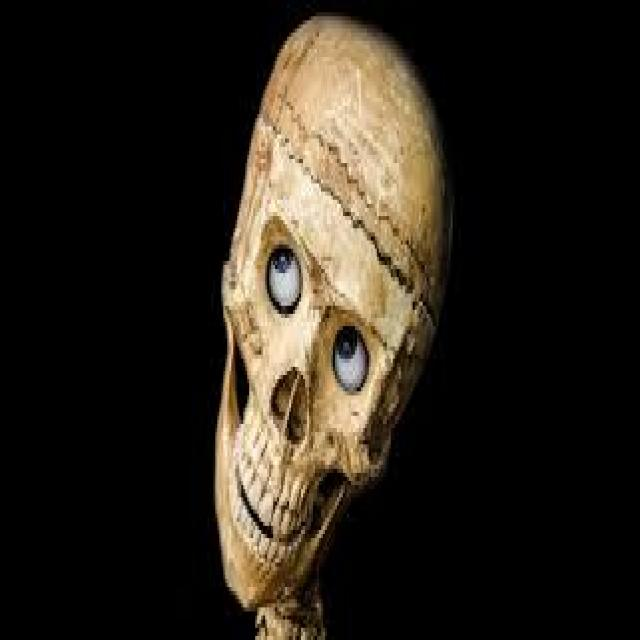skull: (209, 0, 469, 640)
